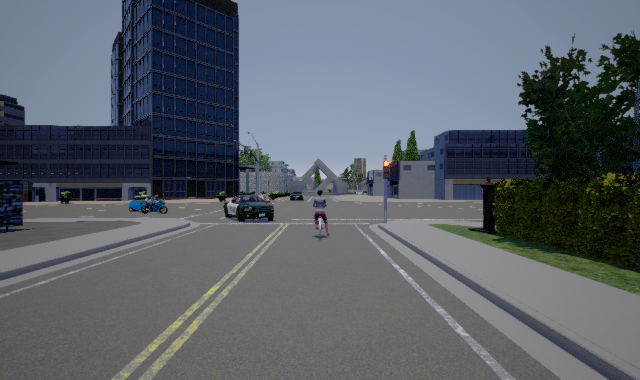bike: (310, 189, 333, 237)
motobike: (140, 196, 165, 213)
traffic_light: (383, 157, 389, 183)
vehicle: (223, 193, 274, 222), (129, 195, 168, 214)
